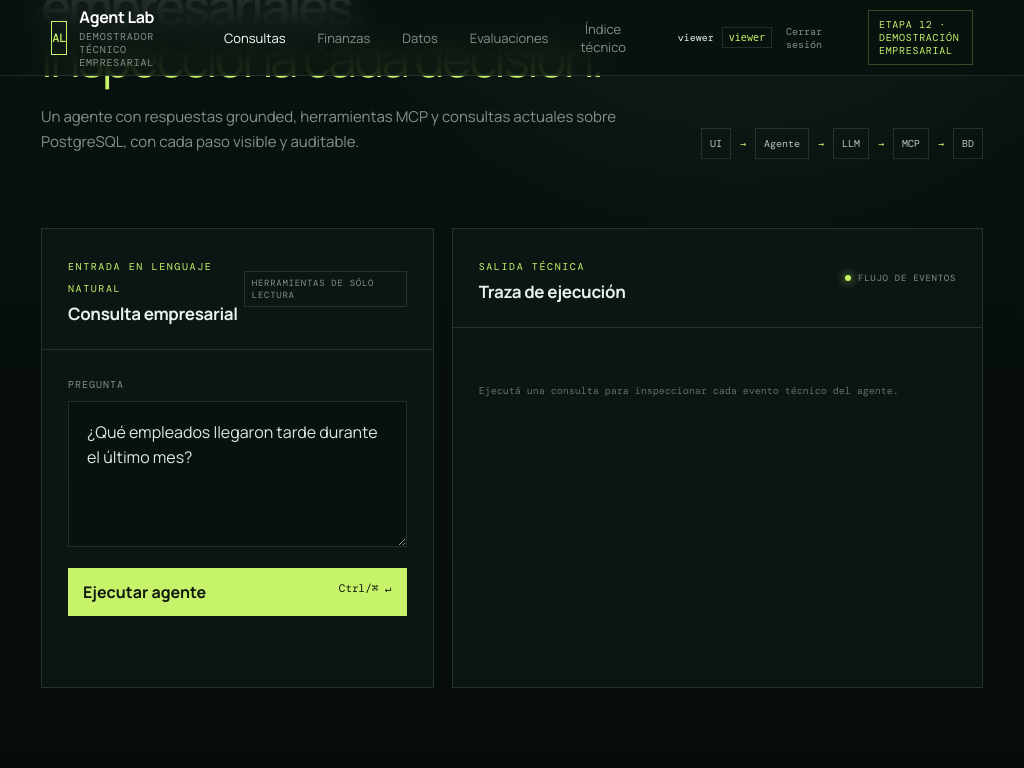
Test: App › runs the agent and renders its grounded response and real trace
(page scrolled)
Expected: the heading "Traza de ejecución" is shown, [479,280,626,303]
Click the button "Ejecutar agente Ctrl/⌘ ↵": (145, 592) [68,568,407,616]
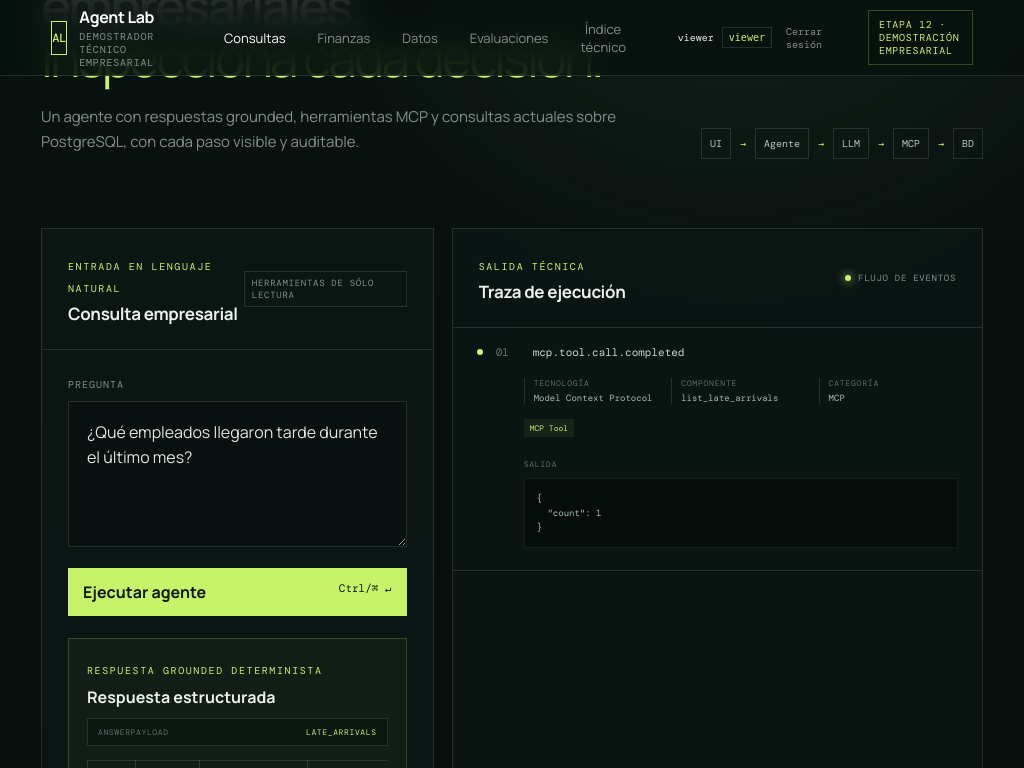
Result: the text "answerPayload" is shown at [98,727,169,737]
Result: the text "mcp.tool.call.completed" is shown at [533,345,684,359]
Result: the text "list_late_arrivals" is shown 2 times
